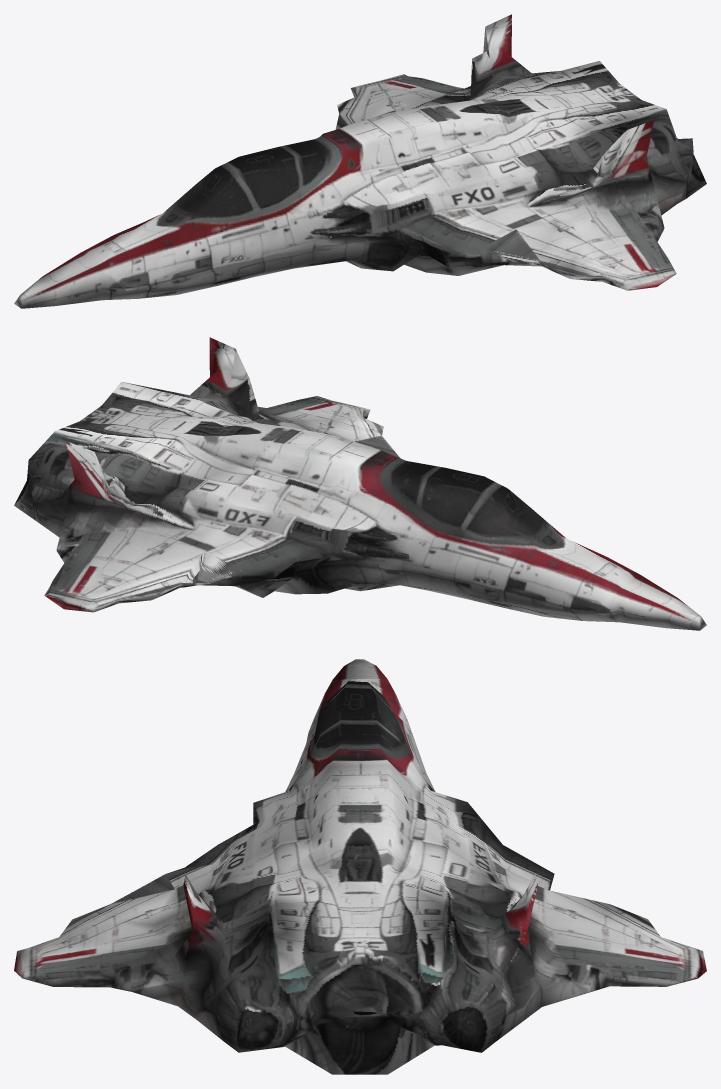
The model's file is spaceship_fighter_voxel_chunky.glb.
3 views of the same model, one above another, from view 1: azimuth 30°, elevation 25°; view 2: azimuth 150°, elevation 25°; view 3: azimuth 270°, elevation 25° (orthographic). The views are drawn at different scales.
Visible parts, largest first — view 1: Low; view 2: Low; view 3: Low.
Boxes of the visible parts, box(x1,y1,x2,y2) form: Low: box(14, 14, 706, 308); Low: box(14, 337, 706, 630); Low: box(14, 659, 706, 1074).
Size of the model in its own units: 1.8 by 0.3584 by 1.37.
1 material, 1 textured.
